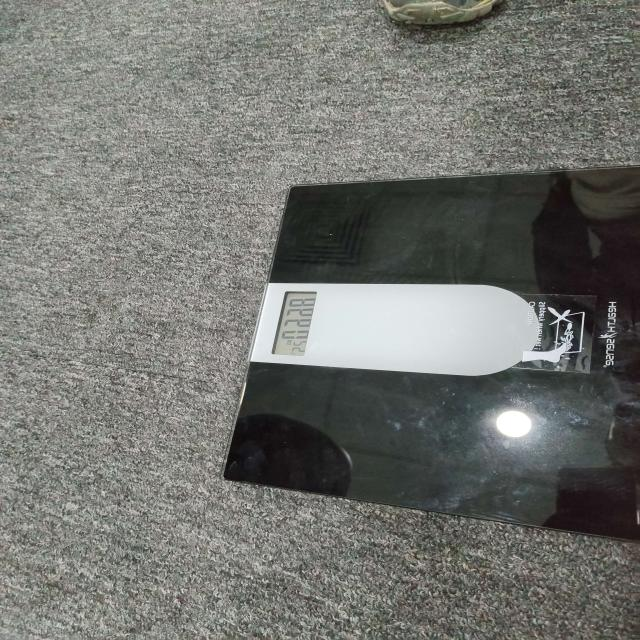ws: (225, 173, 640, 528)
